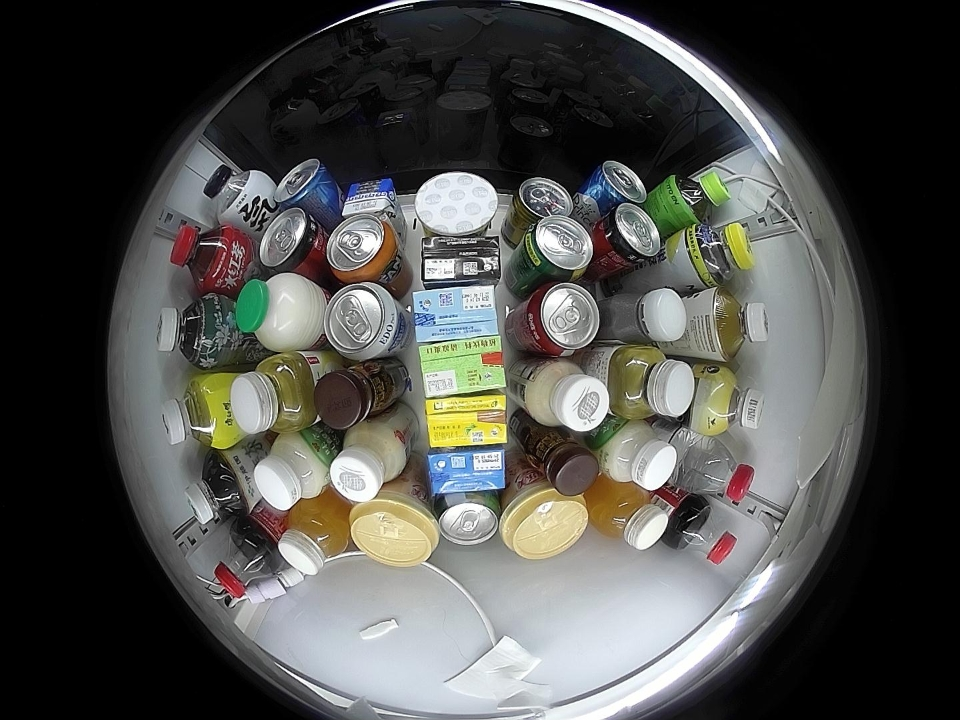anmuxi: (341, 178, 398, 221)
asamu: (697, 366, 764, 434)
binghongcha: (170, 223, 238, 291)
bingtangxueli: (161, 373, 235, 450)
chacui: (684, 223, 754, 288)
chapai2: (230, 352, 318, 432), (608, 345, 694, 420)
damaicha: (183, 454, 250, 525)
fenda: (326, 214, 398, 282)
hongniu2: (510, 178, 574, 224)
kebike: (413, 172, 499, 236)
kele: (523, 282, 600, 358)
kele-b: (213, 526, 280, 601), (673, 500, 738, 566)
lingdukele: (596, 204, 663, 272), (258, 208, 324, 274)
liziyuan: (235, 273, 325, 353)
lujikafei: (315, 360, 391, 429), (527, 428, 599, 496)
moliqingcha: (155, 292, 222, 370)
nongfushanquan: (685, 437, 756, 503)
qingdaowangzi-2: (273, 159, 338, 214), (584, 160, 647, 210)
quchenshixiangcao: (435, 495, 500, 546)
rancha-2: (705, 289, 769, 359)
rusuanjunqishui: (324, 282, 400, 361)
wanglaoji: (417, 337, 506, 397)
weic: (588, 478, 671, 551), (278, 496, 351, 575)
weitanai: (427, 447, 505, 496)
weitanai2: (420, 234, 501, 288)
weitanaiditang: (413, 284, 500, 343)
weitaningmeng: (425, 394, 509, 448)
weiweidounai: (525, 359, 610, 432), (332, 423, 409, 503)
xuebi2: (518, 216, 593, 280)
yitengyuan: (665, 171, 731, 227)
youlemei: (500, 481, 589, 560), (349, 492, 439, 567)
yousuanru: (253, 431, 332, 511), (596, 419, 678, 491)
youyanggudong: (609, 288, 688, 345)
yuanqishui: (202, 165, 271, 227)
